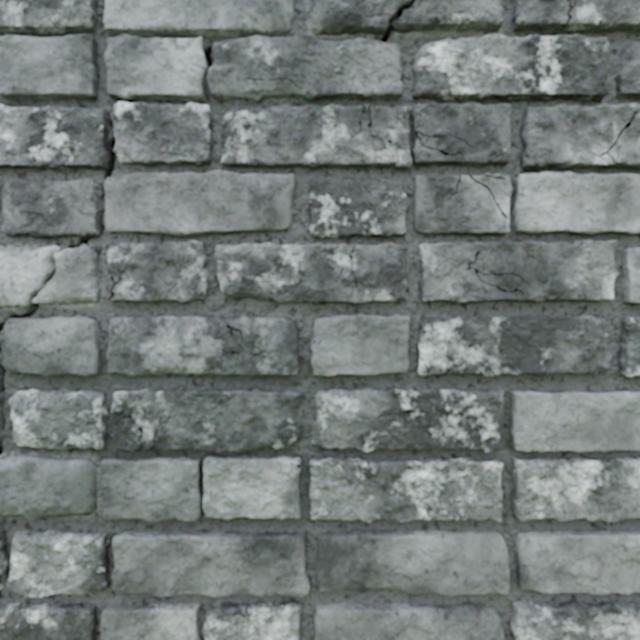broken_brick: (0, 244, 100, 306), (0, 455, 96, 518), (393, 0, 503, 32), (311, 0, 410, 35)
crack: (0, 0, 415, 252), (0, 253, 101, 455), (221, 102, 511, 168), (101, 455, 300, 522), (413, 34, 608, 102), (112, 531, 309, 597), (316, 529, 509, 596), (309, 457, 502, 522), (419, 240, 618, 303), (109, 388, 303, 452), (312, 388, 503, 453), (418, 314, 611, 376), (215, 243, 407, 304), (107, 316, 299, 376), (0, 0, 99, 100), (512, 457, 639, 522), (0, 524, 109, 599), (516, 530, 639, 595), (520, 103, 639, 170), (512, 172, 639, 234), (510, 391, 639, 452), (313, 602, 504, 639), (107, 241, 208, 303), (412, 173, 512, 234), (311, 314, 409, 376), (309, 176, 407, 238), (9, 389, 107, 450), (510, 600, 639, 639), (512, 0, 639, 33), (202, 601, 301, 639), (100, 602, 200, 639), (0, 602, 96, 639), (616, 41, 639, 99), (618, 317, 639, 376), (622, 248, 639, 303)
